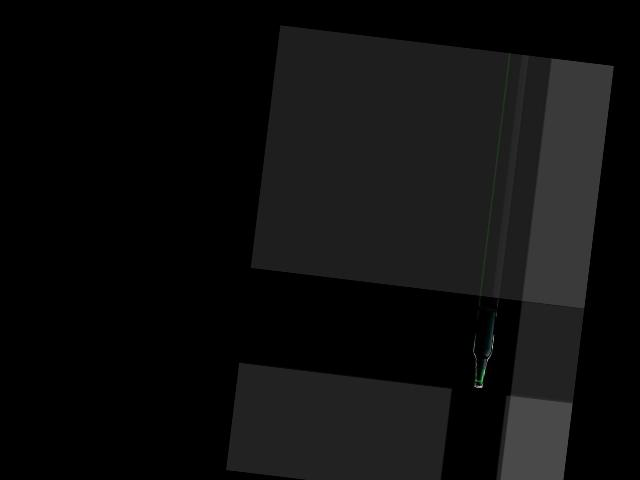beer: (469, 308, 498, 389)
